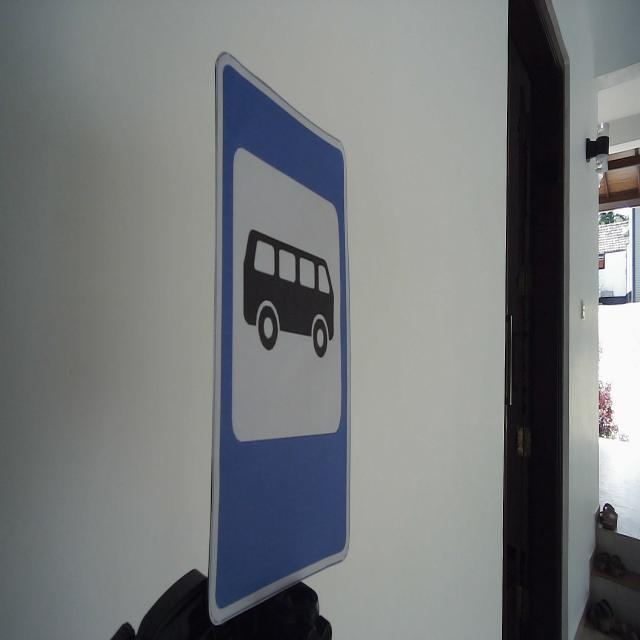bus_stop: (206, 48, 354, 631)
